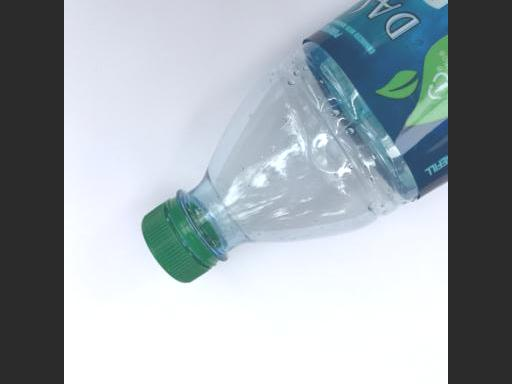bottle: (131, 0, 448, 288)
